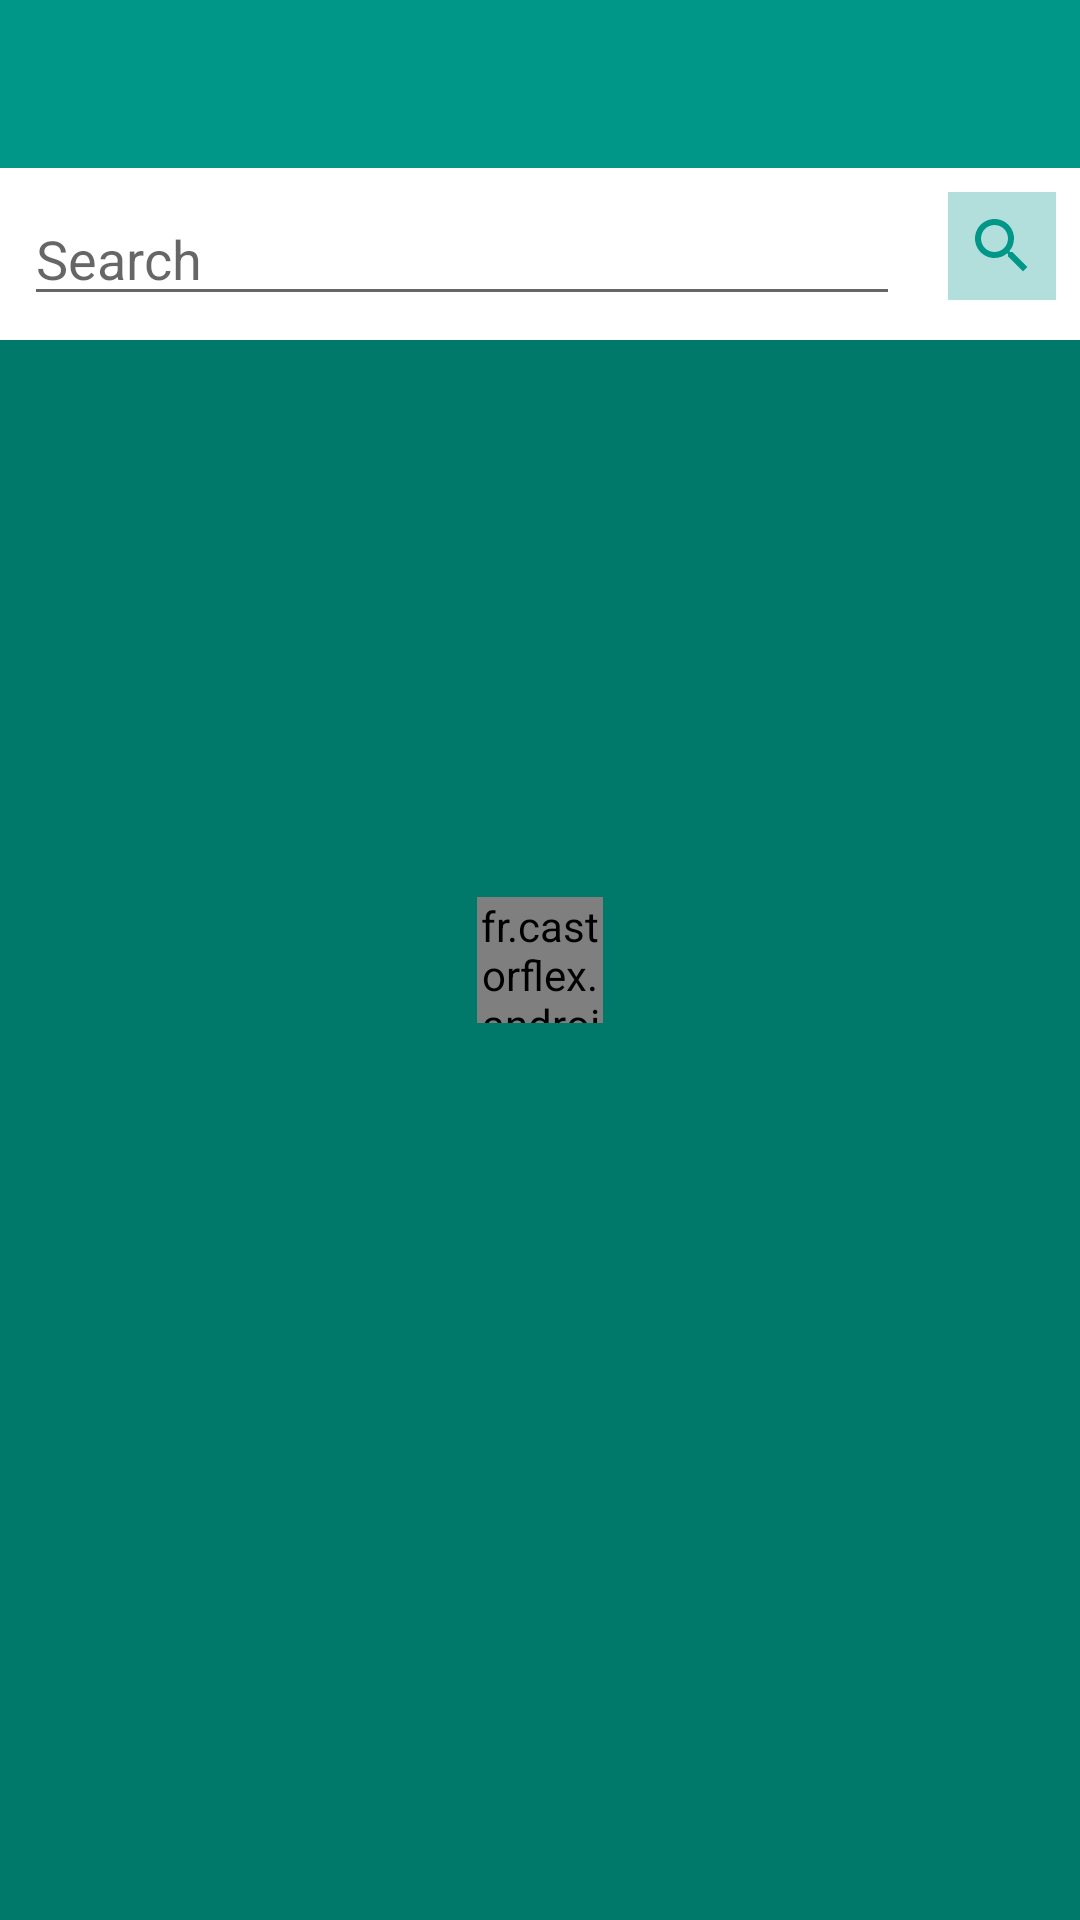

Locate icon controls on the screen. Image size 1080px x 1920px, boxes as (x1, y1, x2, y2).
search: (948, 192, 1056, 300)
